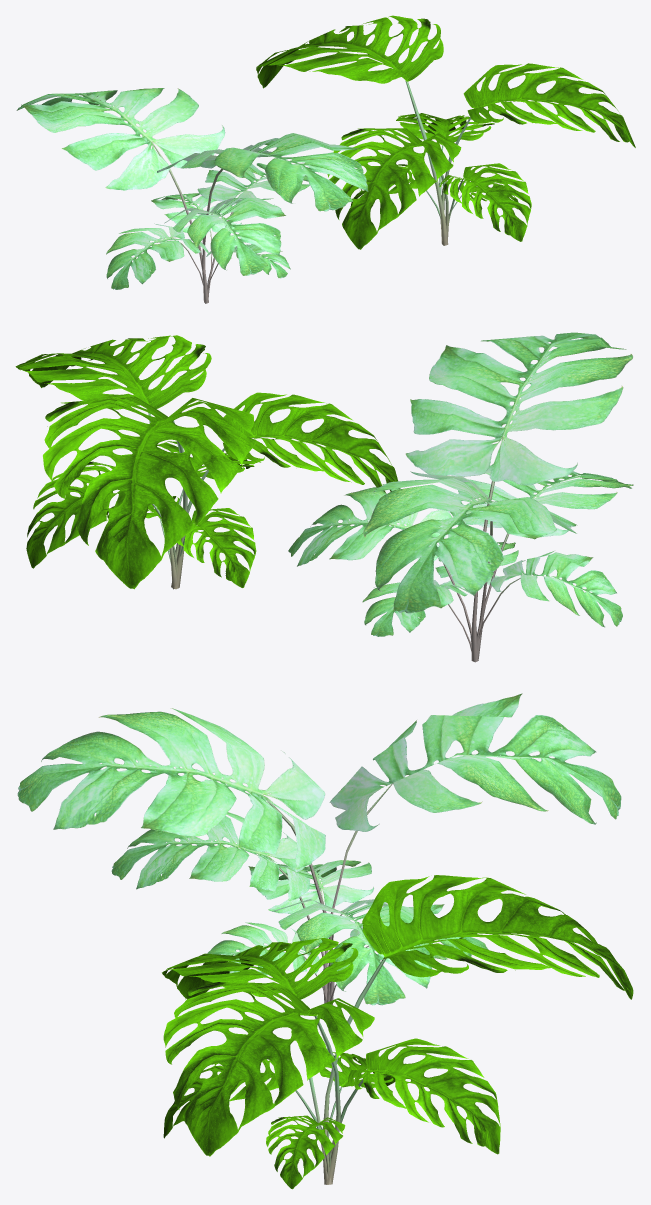
File: monstera_plants.glb
The picture shows the model from 3 angles, top to bottom: view 1: azimuth 30°, elevation 25°; view 2: azimuth 150°, elevation 25°; view 3: azimuth 270°, elevation 25°; orthographic projection. The views are drawn at different scales.
Parts seen in each view (by area): view 1: Object_4; view 2: Object_4; view 3: Object_4.
Boxes of the visible parts, box(x1,y1,x2,y2) form: Object_4: box(16, 15, 635, 303); Object_4: box(15, 332, 633, 662); Object_4: box(17, 693, 633, 1189).
Size of the model in its own units: 2.69 by 1 by 2.04.
Materials: 1 (1 with a texture image).
